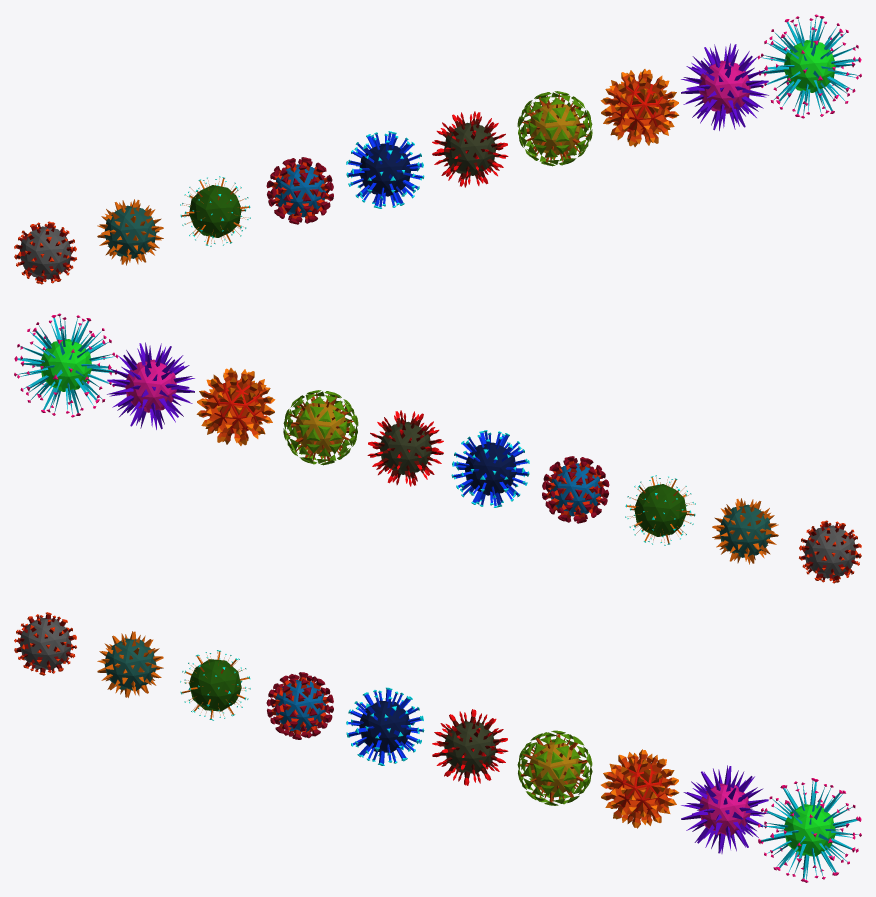
The model's file is VirusPack_01.FBX.
3 renders of one model, top to bottom at view 1: azimuth 30°, elevation 25°; view 2: azimuth 150°, elevation 25°; view 3: azimuth 330°, elevation 25°, orthographic.
Visible parts, largest first — view 1: virus_10, virus_07, virus_08, virus_09, virus_05, virus_06, virus_04, virus_02, virus_01, virus_03; view 2: virus_10, virus_07, virus_08, virus_09, virus_05, virus_06, virus_04, virus_02, virus_01, virus_03; view 3: virus_10, virus_08, virus_07, virus_09, virus_05, virus_04, virus_06, virus_02, virus_01, virus_03.
Boxes of the visible parts, x1,y1,x2,y2 form: virus_10: [757, 14, 861, 118]; virus_07: [517, 91, 592, 166]; virus_08: [600, 69, 679, 146]; virus_09: [681, 43, 768, 130]; virus_05: [346, 131, 424, 208]; virus_06: [432, 111, 508, 187]; virus_04: [266, 157, 333, 224]; virus_02: [97, 199, 163, 265]; virus_01: [14, 221, 76, 284]; virus_03: [180, 176, 250, 246]; virus_10: [14, 313, 118, 417]; virus_07: [283, 390, 358, 465]; virus_08: [196, 368, 275, 445]; virus_09: [107, 342, 194, 429]; virus_05: [451, 430, 529, 507]; virus_06: [367, 410, 443, 486]; virus_04: [542, 456, 609, 523]; virus_02: [712, 498, 778, 564]; virus_01: [799, 520, 861, 583]; virus_03: [625, 475, 695, 545]; virus_10: [757, 778, 861, 882]; virus_08: [601, 749, 679, 828]; virus_07: [517, 730, 592, 805]; virus_09: [681, 765, 768, 853]; virus_05: [346, 687, 424, 765]; virus_04: [266, 672, 333, 739]; virus_06: [432, 709, 508, 785]; virus_02: [97, 631, 163, 697]; virus_01: [14, 612, 76, 675]; virus_03: [180, 650, 250, 720].
Size of the model in its own units: 394 by 40.75 by 41.17.
